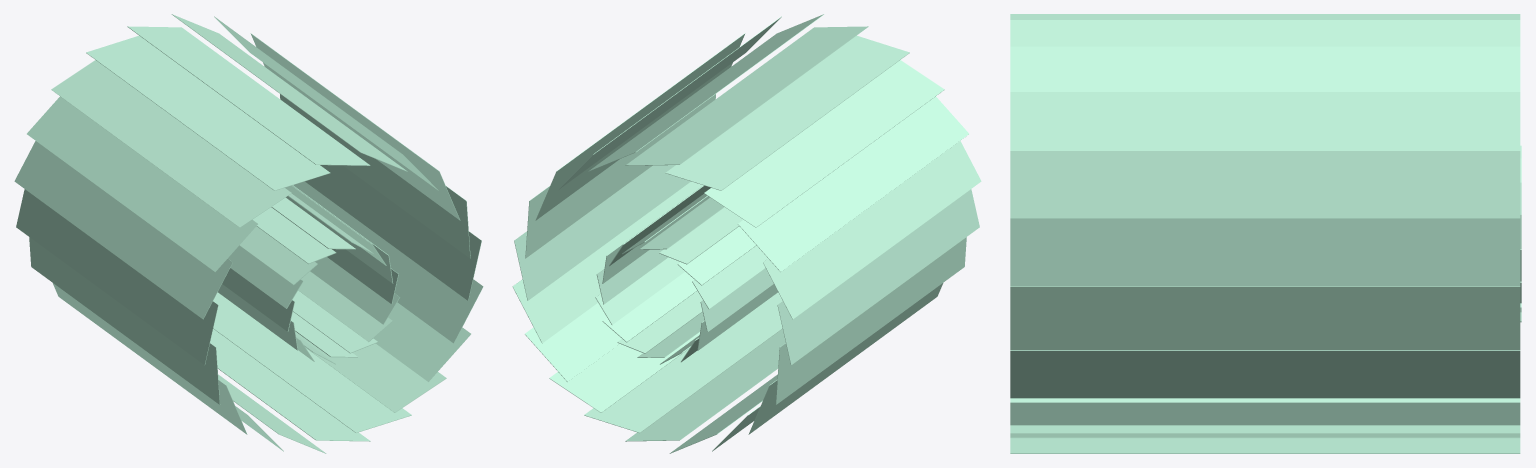
Rendered from ITK-Pixel-Layout-Inner-Barrel-cut1.glb.
3 views of the same model, side by side, from view 1: azimuth 30°, elevation 25°; view 2: azimuth 150°, elevation 25°; view 3: azimuth 270°, elevation 25° (orthographic). The views are drawn at different scales.
Visible parts, largest first — view 1: ITK_Pixel_Layout_Inner_Barrel Cut 1; view 2: ITK_Pixel_Layout_Inner_Barrel Cut 1; view 3: ITK_Pixel_Layout_Inner_Barrel Cut 1.
Boxes of the visible parts, bbox=[...] form: ITK_Pixel_Layout_Inner_Barrel Cut 1: bbox=[14, 14, 483, 453]; ITK_Pixel_Layout_Inner_Barrel Cut 1: bbox=[512, 14, 981, 453]; ITK_Pixel_Layout_Inner_Barrel Cut 1: bbox=[1010, 14, 1521, 453].
Bounding box in the file's own units: 0.2106 × 0.2106 × 0.2459.
